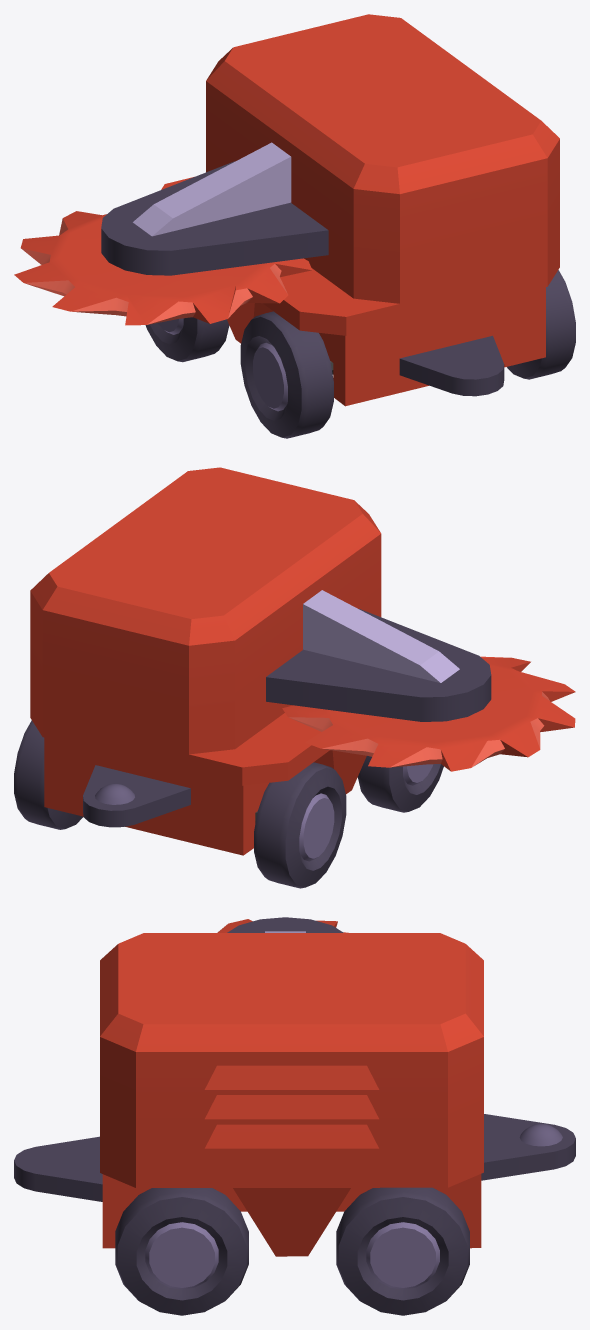
File: Cutter_Red.fbx
The picture shows the model from 3 angles, top to bottom: view 1: azimuth 30°, elevation 25°; view 2: azimuth 150°, elevation 25°; view 3: azimuth 270°, elevation 25°; orthographic projection. The views are drawn at different scales.
Parts seen in each view (by area): view 1: Cutter_Red, Cutter_Base, Cutter; view 2: Cutter_Red, Cutter_Base, Cutter; view 3: Cutter_Red, Cutter_Base.
Part boxes in pixels (bbox=[...]): Cutter_Red: bbox=[145, 14, 575, 438]; Cutter_Base: bbox=[101, 142, 328, 275]; Cutter: bbox=[14, 211, 312, 325]; Cutter_Red: bbox=[14, 467, 443, 888]; Cutter_Base: bbox=[266, 590, 491, 721]; Cutter: bbox=[282, 656, 575, 771]; Cutter_Red: bbox=[14, 933, 575, 1315]; Cutter_Base: bbox=[227, 917, 343, 932].
Bounding box in the file's own units: 116 × 63.28 × 114.
Materials: 1 (1 with a texture image).
